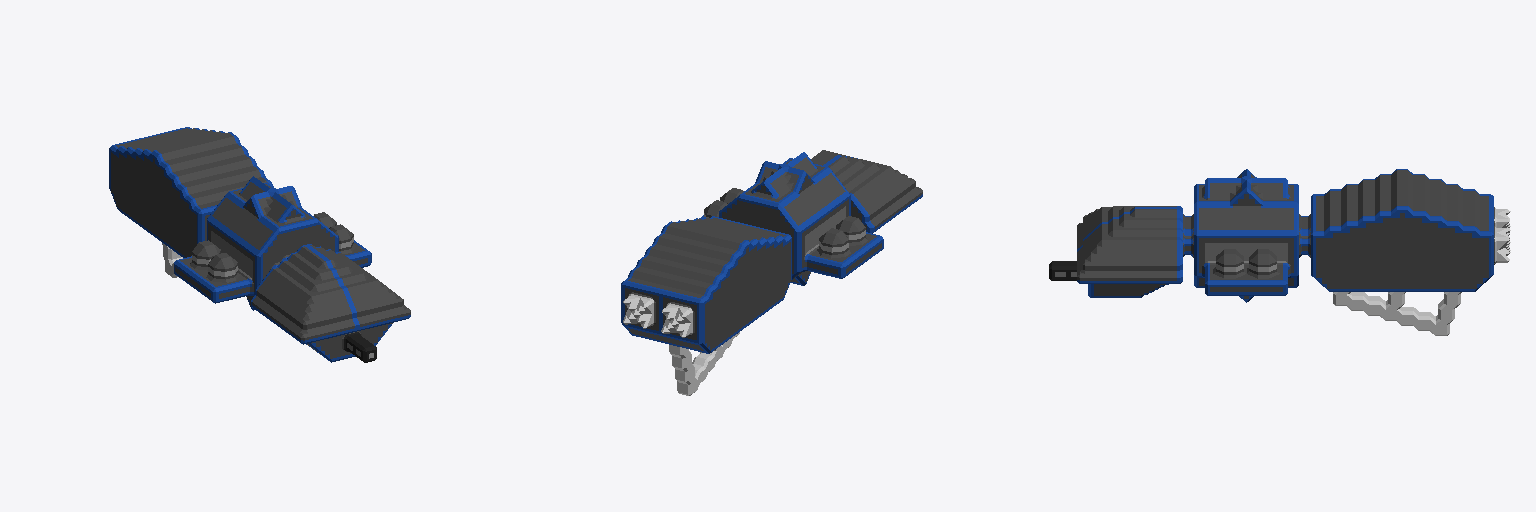
3 views of the same model, side by side, from view 1: azimuth 30°, elevation 25°; view 2: azimuth 150°, elevation 25°; view 3: azimuth 270°, elevation 25° (orthographic).
Bounding box in the file's own units: 33 × 31 × 83.
1 materials, 1 textured.